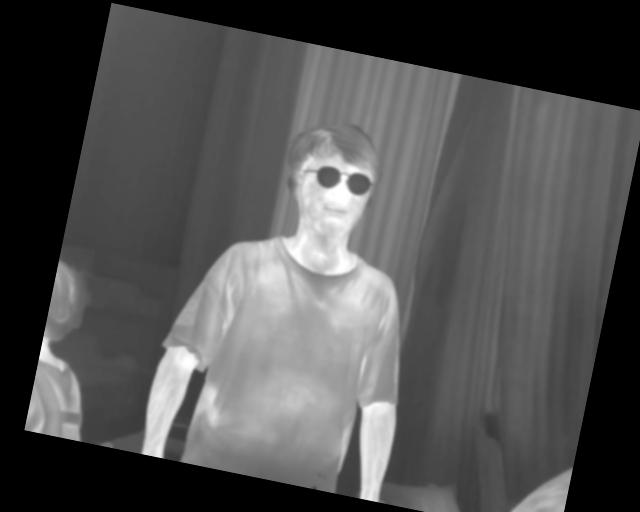face: (275, 113, 386, 244)
